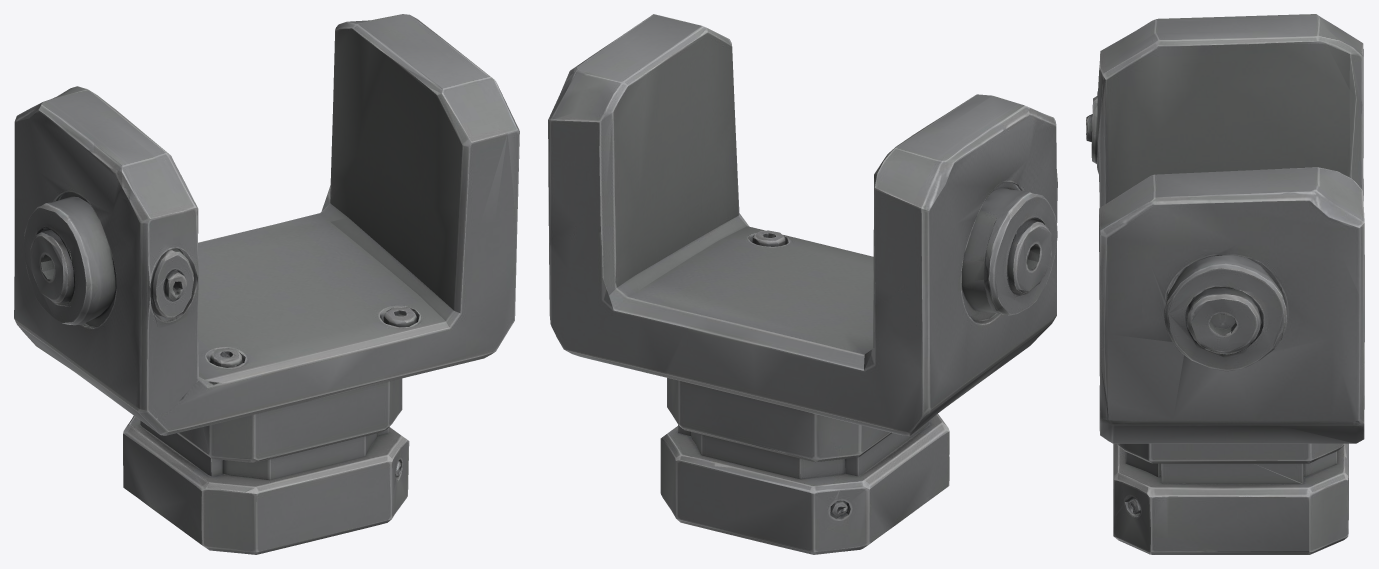
Rendered from shared_flak_tower_compact_option__radar_azimuth_yoke.glb.
The picture shows the model from 3 angles, left to right: view 1: azimuth 30°, elevation 25°; view 2: azimuth 150°, elevation 25°; view 3: azimuth 270°, elevation 25°; orthographic projection.
Visible parts, largest first — view 1: mesh_node; view 2: mesh_node; view 3: mesh_node.
Part boxes in pixels (left/top/right/bottom): mesh_node: left=14, top=14, right=519, bottom=554; mesh_node: left=548, top=14, right=1057, bottom=554; mesh_node: left=1086, top=14, right=1364, bottom=554.
Size of the model in its own units: 0.5919 by 0.5182 by 0.3214.
1 material, 1 textured.
